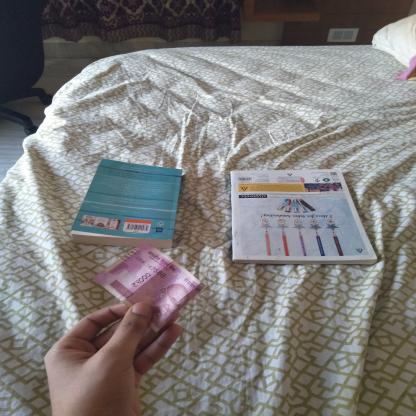New2000Front: (100, 244, 198, 324)
